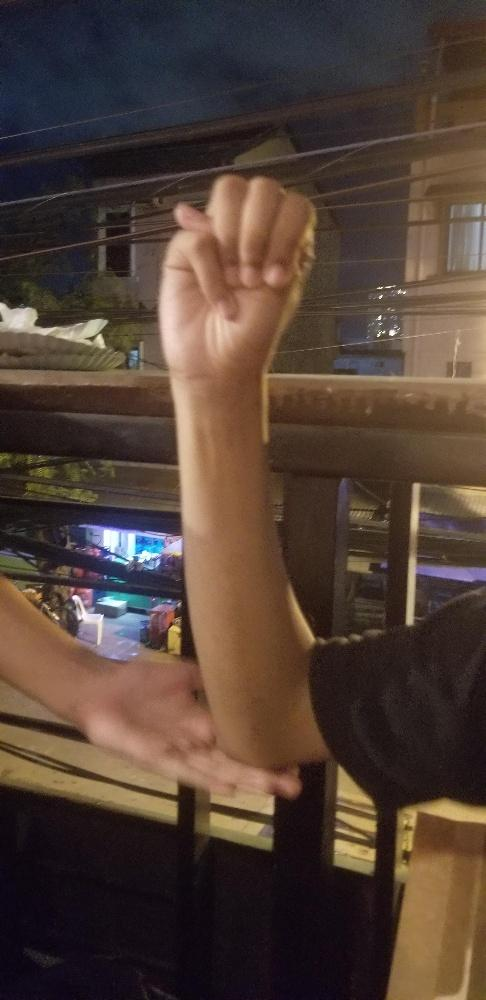m: (155, 173, 318, 376)
